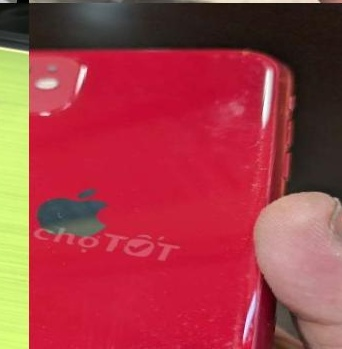scratch: (178, 37, 307, 195), (190, 270, 264, 349)
screen_defect: (0, 32, 29, 197), (0, 229, 29, 314), (0, 170, 29, 244)
